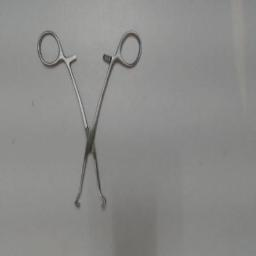Babcock Tissue Forceps: (35, 29, 145, 213)
